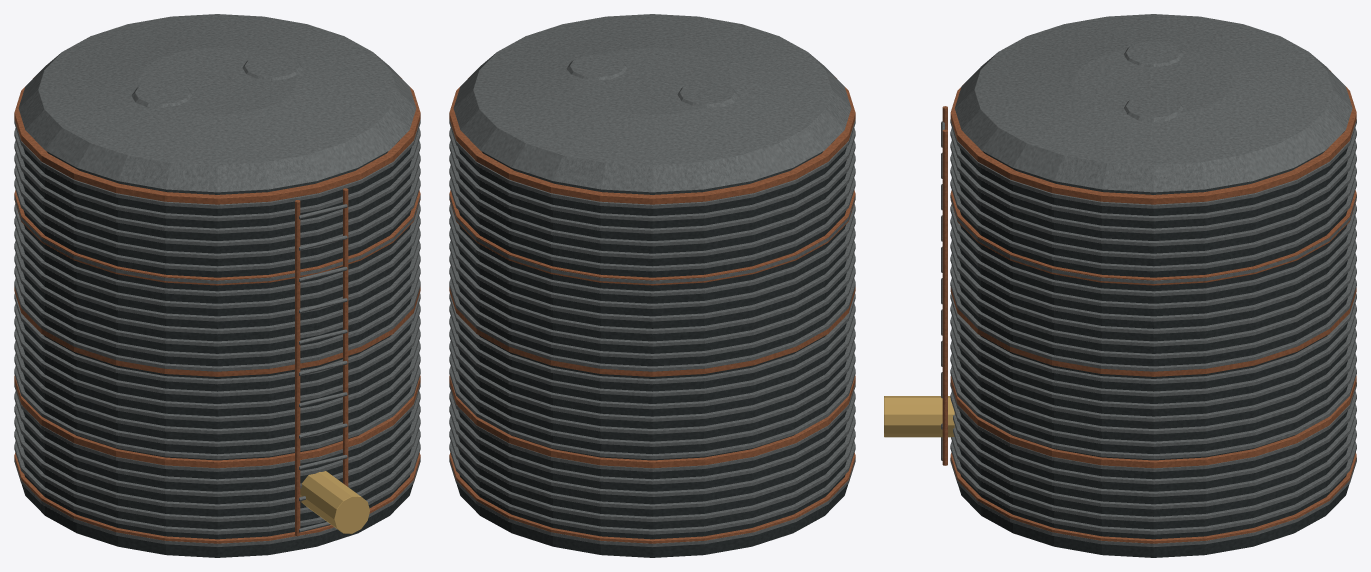
The model's file is TANKSEP2_lod1.glb.
The picture shows the model from 3 angles, left to right: view 1: azimuth 30°, elevation 25°; view 2: azimuth 150°, elevation 25°; view 3: azimuth 270°, elevation 25°; orthographic projection.
Visible parts, largest first — view 1: TANKSEP2_LOD1; view 2: TANKSEP2_LOD1; view 3: TANKSEP2_LOD1.
Boxes of the visible parts, bbox=[...] form: TANKSEP2_LOD1: bbox=[14, 14, 420, 557]; TANKSEP2_LOD1: bbox=[449, 14, 855, 557]; TANKSEP2_LOD1: bbox=[884, 14, 1356, 557].
Bounding box in the file's own units: 3.53 × 3.78 × 4.1.
4 materials, 3 textured.
